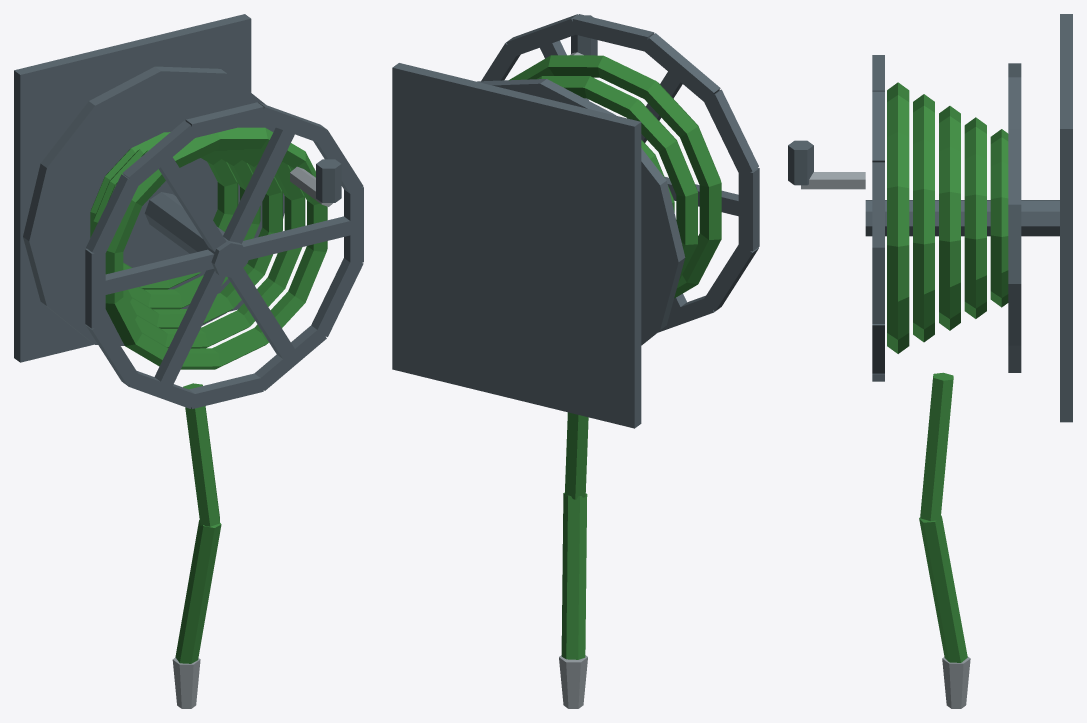
File: HoseReel.fbx
3 views of the same model, side by side, from view 1: azimuth 30°, elevation 25°; view 2: azimuth 150°, elevation 25°; view 3: azimuth 270°, elevation 25° (orthographic). The views are drawn at different scales.
Visible parts, largest first — view 1: HoseReel; view 2: HoseReel; view 3: HoseReel.
Boxes of the visible parts, x1,y1,x2,y2 form: HoseReel: (14, 14, 363, 708); HoseReel: (392, 14, 759, 708); HoseReel: (788, 14, 1072, 708).
Size of the model in its own units: 0.495 by 1.08 by 0.44.
